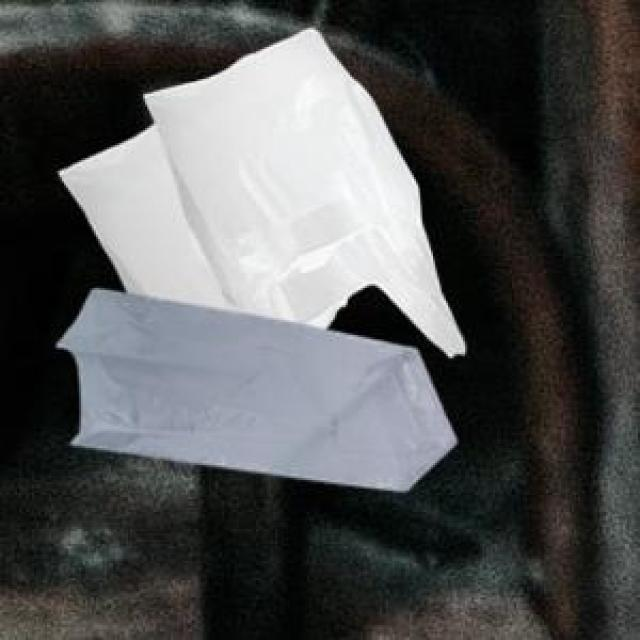waste: (59, 29, 465, 491)
